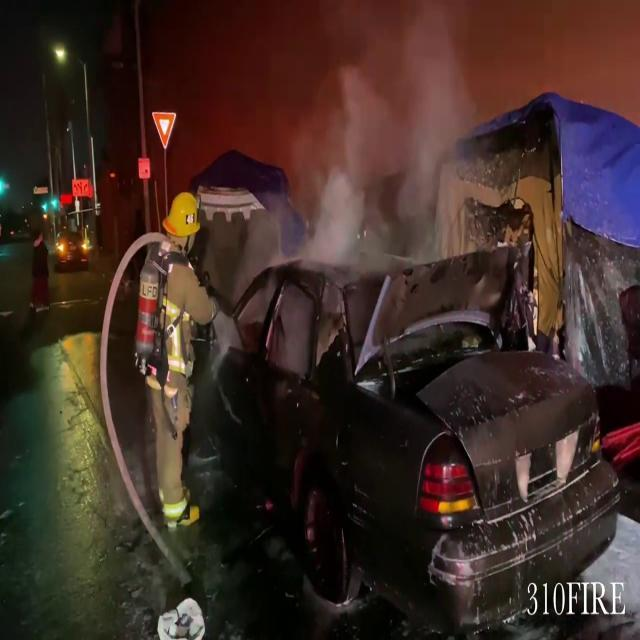Smoke: (256, 0, 494, 276)
